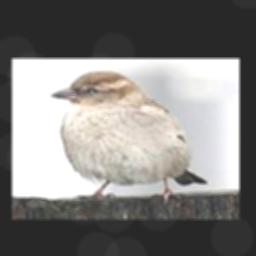Sparrow: (50, 70, 209, 205)
